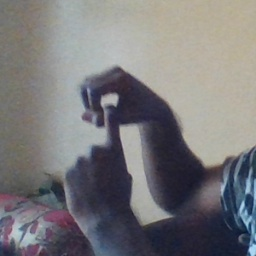Q: (59, 64, 157, 198)
